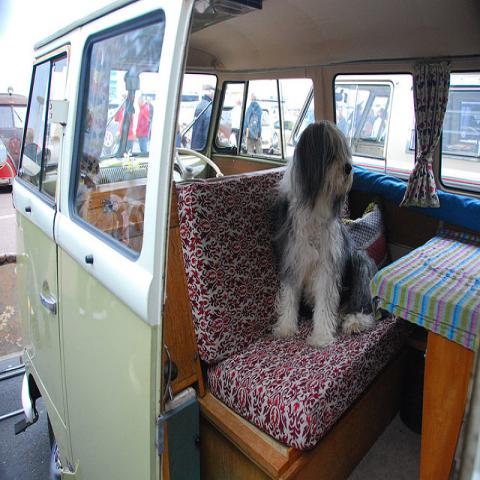car: (0, 94, 29, 189), (259, 104, 274, 154)
